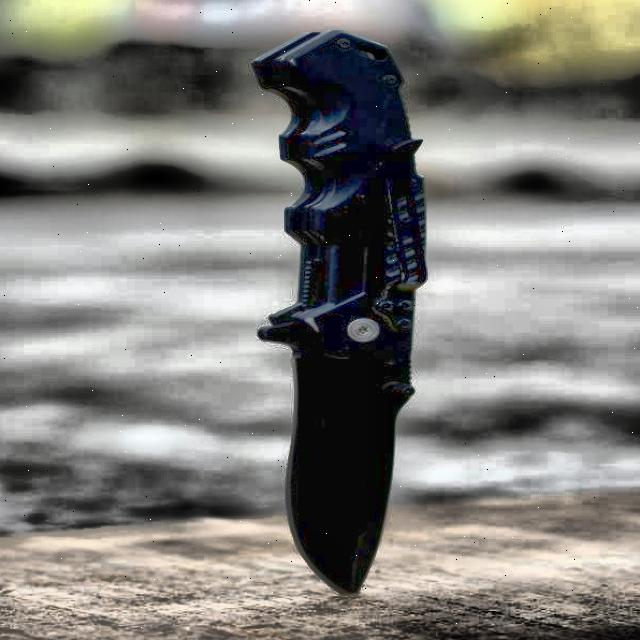knife: (249, 25, 451, 597)
